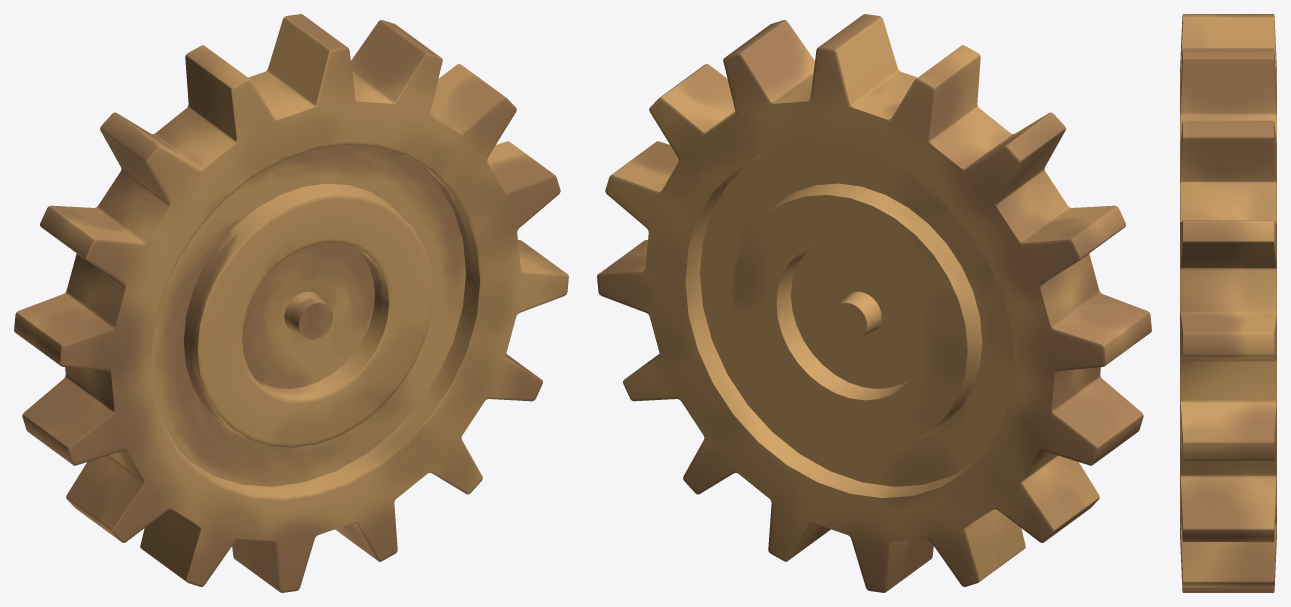
The model's file is Big Gear.fbx.
3 renders of one model, left to right at view 1: azimuth 30°, elevation 25°; view 2: azimuth 150°, elevation 25°; view 3: azimuth 270°, elevation 25°, orthographic.
Parts seen in each view (by area): view 1: Big gear; view 2: Big gear; view 3: Big gear.
Boxes of the visible parts, left/top/right/bottom form: Big gear: left=14, top=14, right=568, bottom=592; Big gear: left=597, top=14, right=1151, bottom=592; Big gear: left=1180, top=14, right=1276, bottom=592.
Size of the model in its own units: 740 by 740 by 123.
